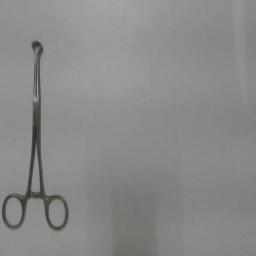Babcock Tissue Forceps: (1, 38, 71, 232)
